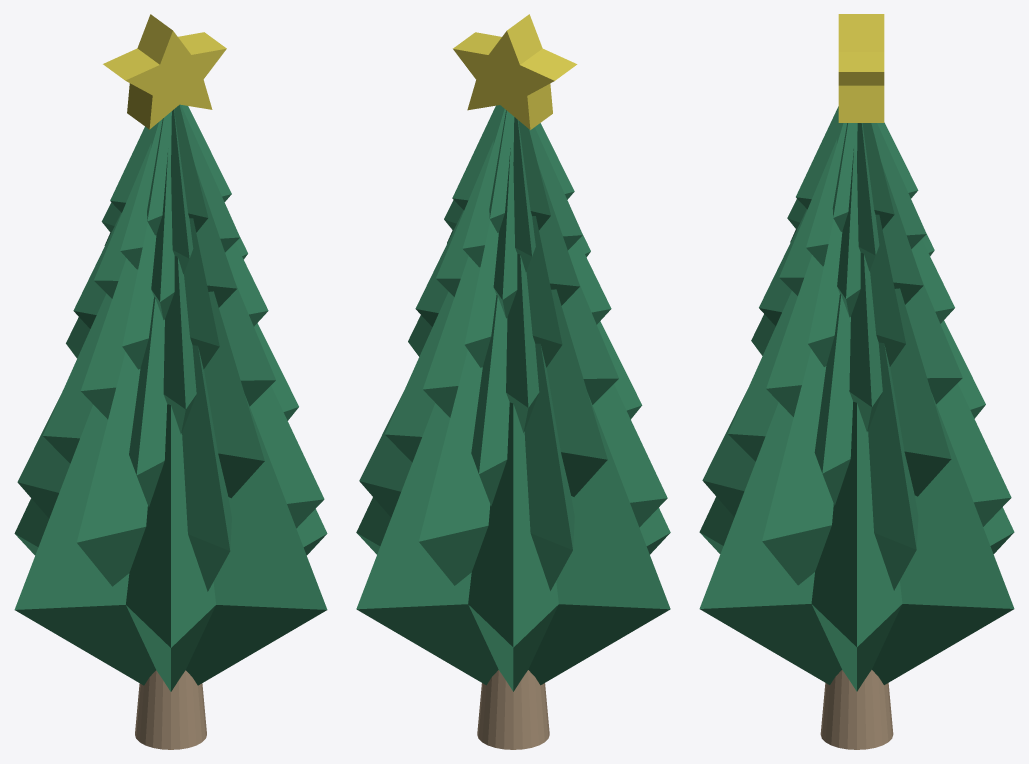
Rendered from Stunning Habbi-Rottis.glb.
3 renders of one model, left to right at view 1: azimuth 30°, elevation 25°; view 2: azimuth 150°, elevation 25°; view 3: azimuth 270°, elevation 25°, orthographic.
Visible parts, largest first — view 1: Mesh_Mesh_head_geo.001_lambert2SG.001; view 2: Mesh_Mesh_head_geo.001_lambert2SG.001; view 3: Mesh_Mesh_head_geo.001_lambert2SG.001.
Boxes of the visible parts, <box> form: Mesh_Mesh_head_geo.001_lambert2SG.001: <box>14,14,327,749</box>; Mesh_Mesh_head_geo.001_lambert2SG.001: <box>356,14,670,749</box>; Mesh_Mesh_head_geo.001_lambert2SG.001: <box>699,14,1014,749</box>.
Size of the model in its own units: 0.04 by 0.087 by 0.0346.
